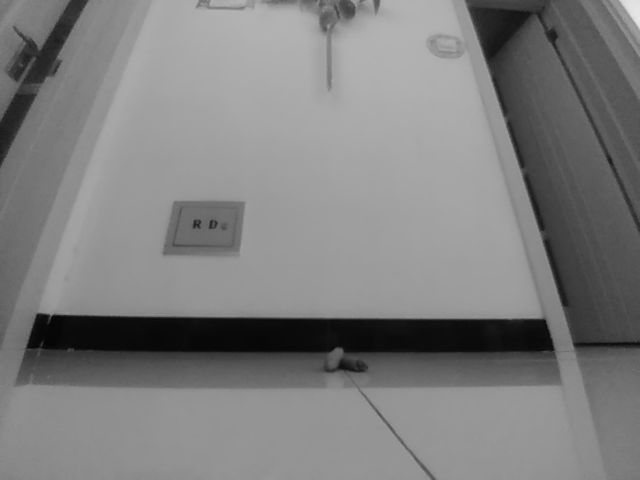pet feces: (323, 348, 366, 372)
